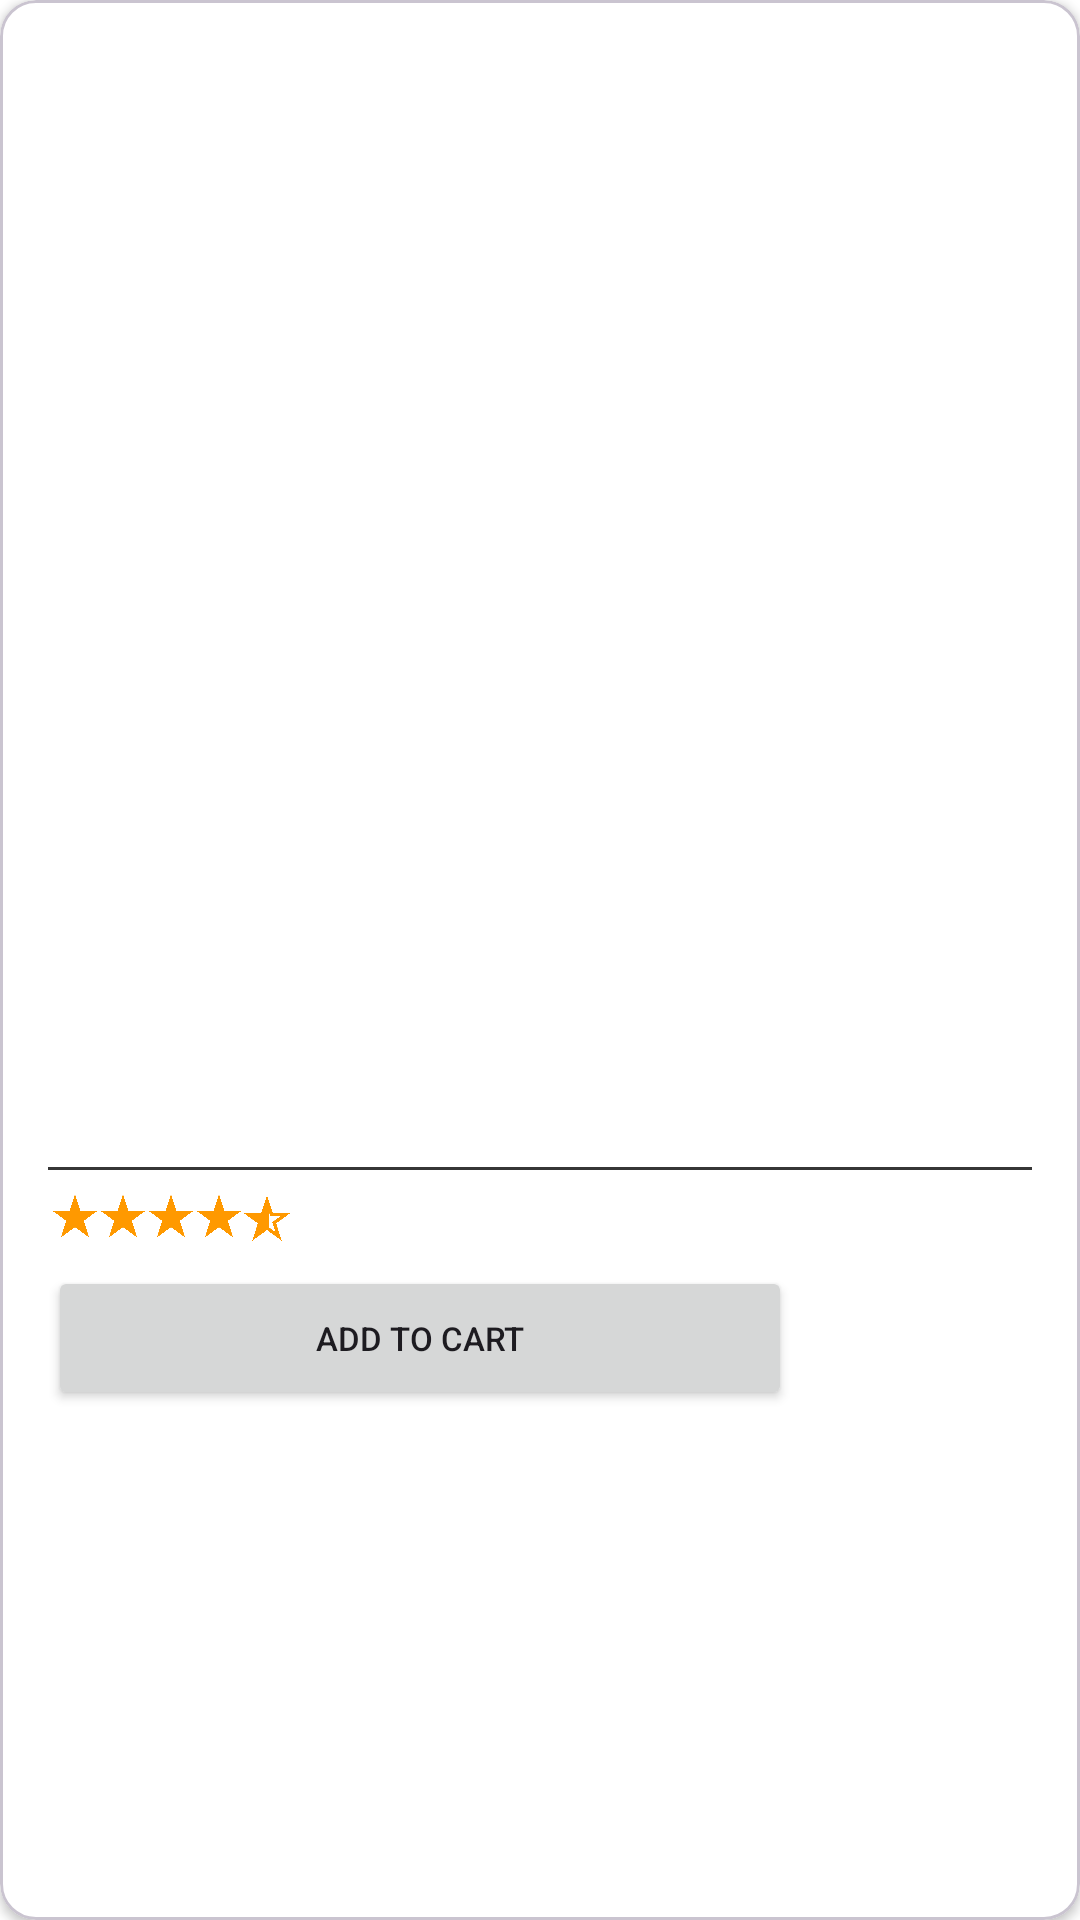

Icon bounding boxes for this 1080 x 1920 phone screenshot, format detection(x1, y1, x2, y2):
star: detection(53, 1195, 97, 1237), detection(101, 1195, 145, 1237), detection(149, 1195, 193, 1237), detection(197, 1195, 241, 1237)
star half: detection(244, 1197, 290, 1241)
